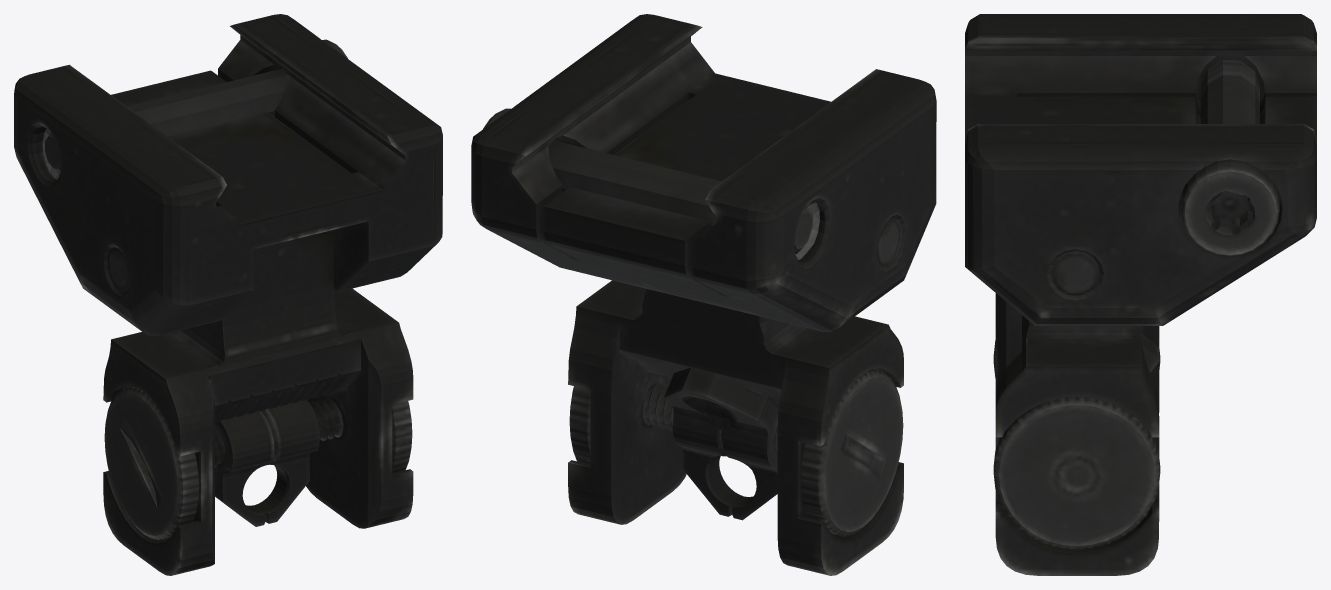
The picture shows the model from 3 angles, left to right: view 1: azimuth 30°, elevation 25°; view 2: azimuth 150°, elevation 25°; view 3: azimuth 270°, elevation 25°; orthographic projection. The views are drawn at different scales.
Parts seen in each view (by area): view 1: TW_5894a81786f77427140b8347_PZ_Import; view 2: TW_5894a81786f77427140b8347_PZ_Import; view 3: TW_5894a81786f77427140b8347_PZ_Import.
Boxes of the visible parts, x1,y1,x2,y2 form: TW_5894a81786f77427140b8347_PZ_Import: (14,14,442,575); TW_5894a81786f77427140b8347_PZ_Import: (471,14,936,575); TW_5894a81786f77427140b8347_PZ_Import: (965,14,1316,575).
Bounding box in the file's own units: 0.019 × 0.0185 × 0.0253.
Materials: 1 (1 with a texture image).
